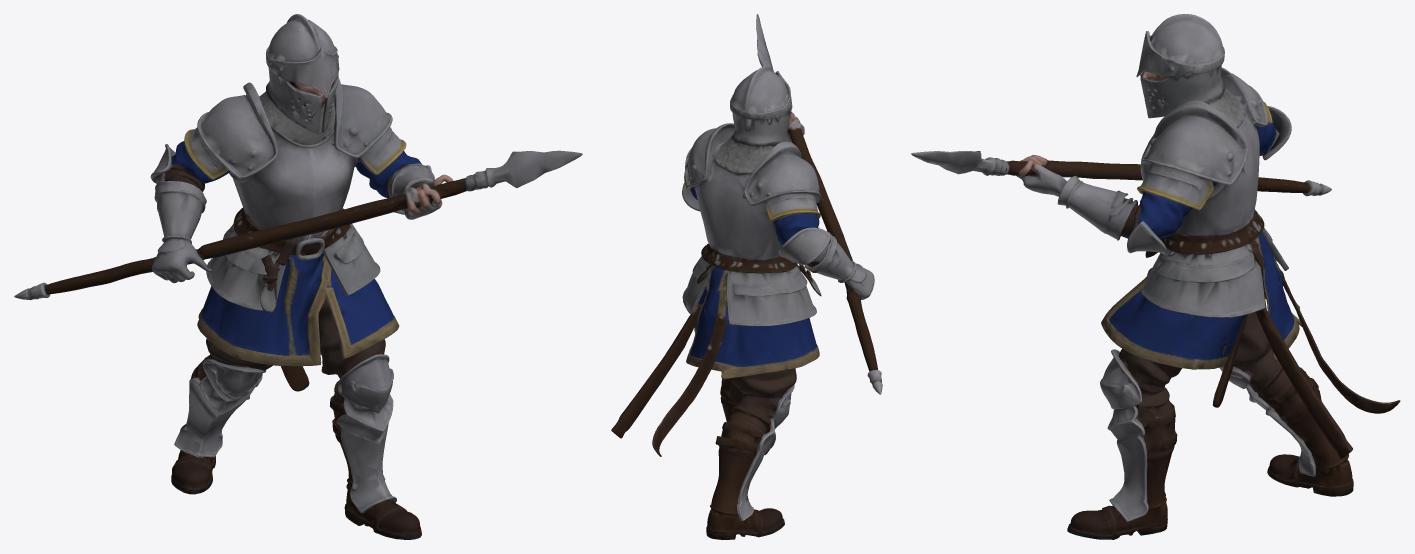
File: detail_2.glb
3 views of the same model, side by side, from view 1: azimuth 30°, elevation 25°; view 2: azimuth 150°, elevation 25°; view 3: azimuth 270°, elevation 25° (orthographic). The views are drawn at different scales.
Size of the model in its own units: 0.7532 by 0.9988 by 0.8952.
1 material, 1 textured.
